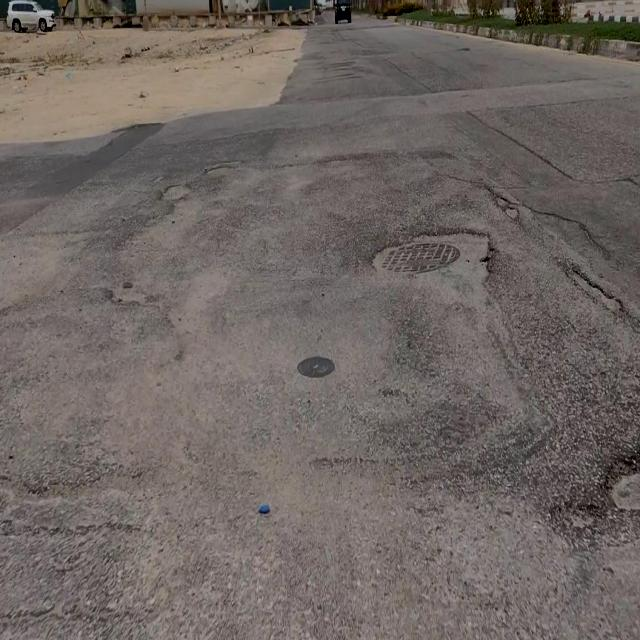Potholes: (601, 446, 640, 515)
